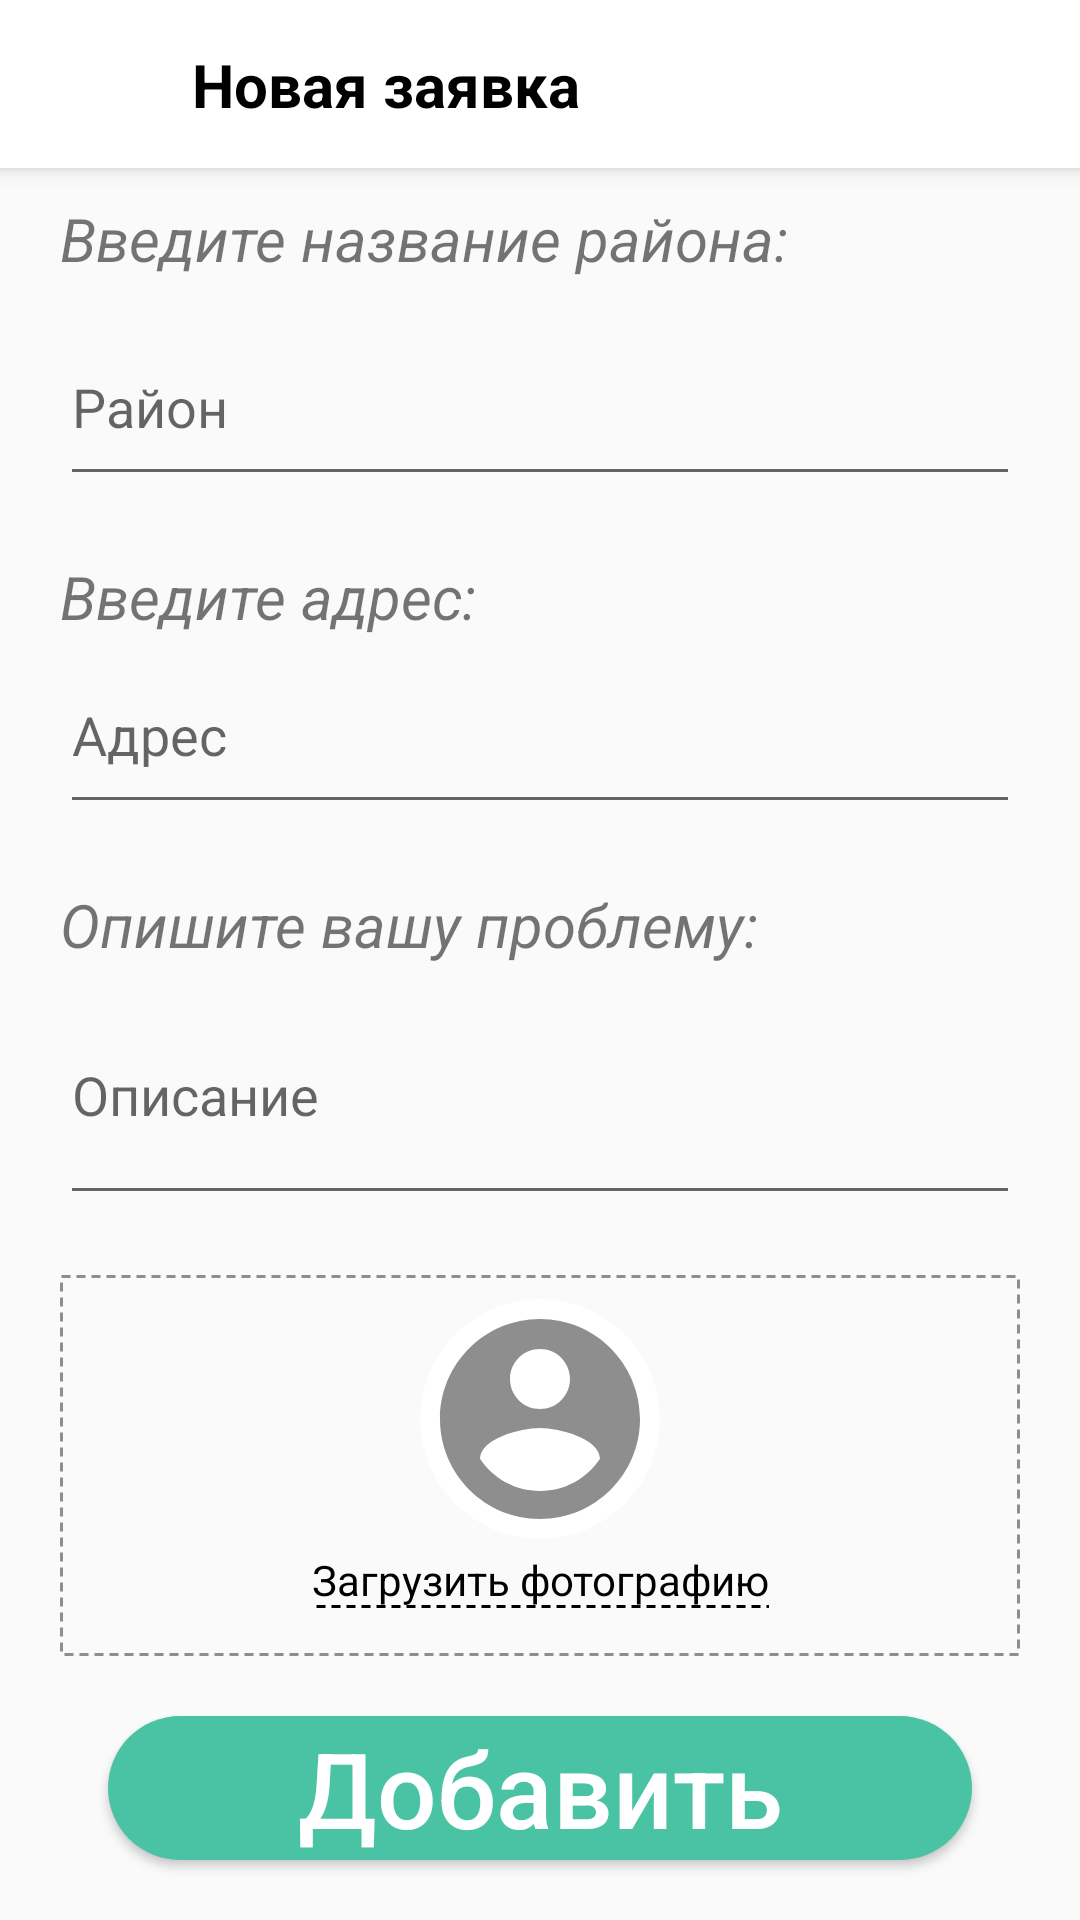

Icon click points for this 1080×1920 phone screenshot, format [x,y]:
account circle: [540,1419]
